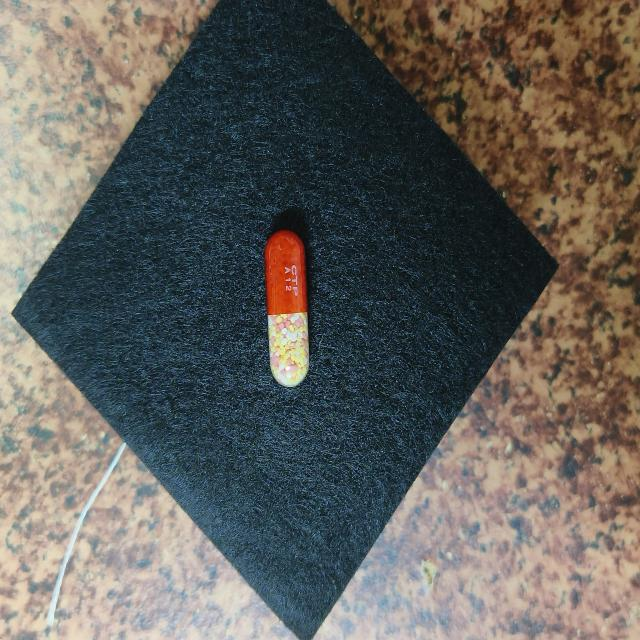Intact Capsule: (264, 230, 309, 387)
